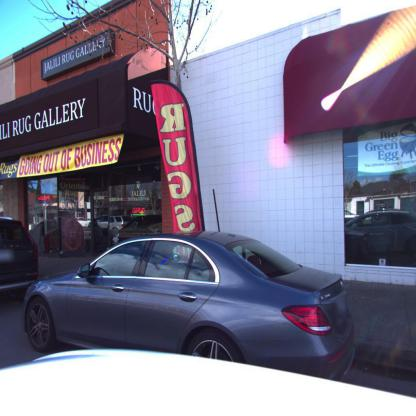car: (18, 235, 352, 369), (344, 209, 416, 269), (0, 216, 39, 303), (93, 214, 137, 244)
